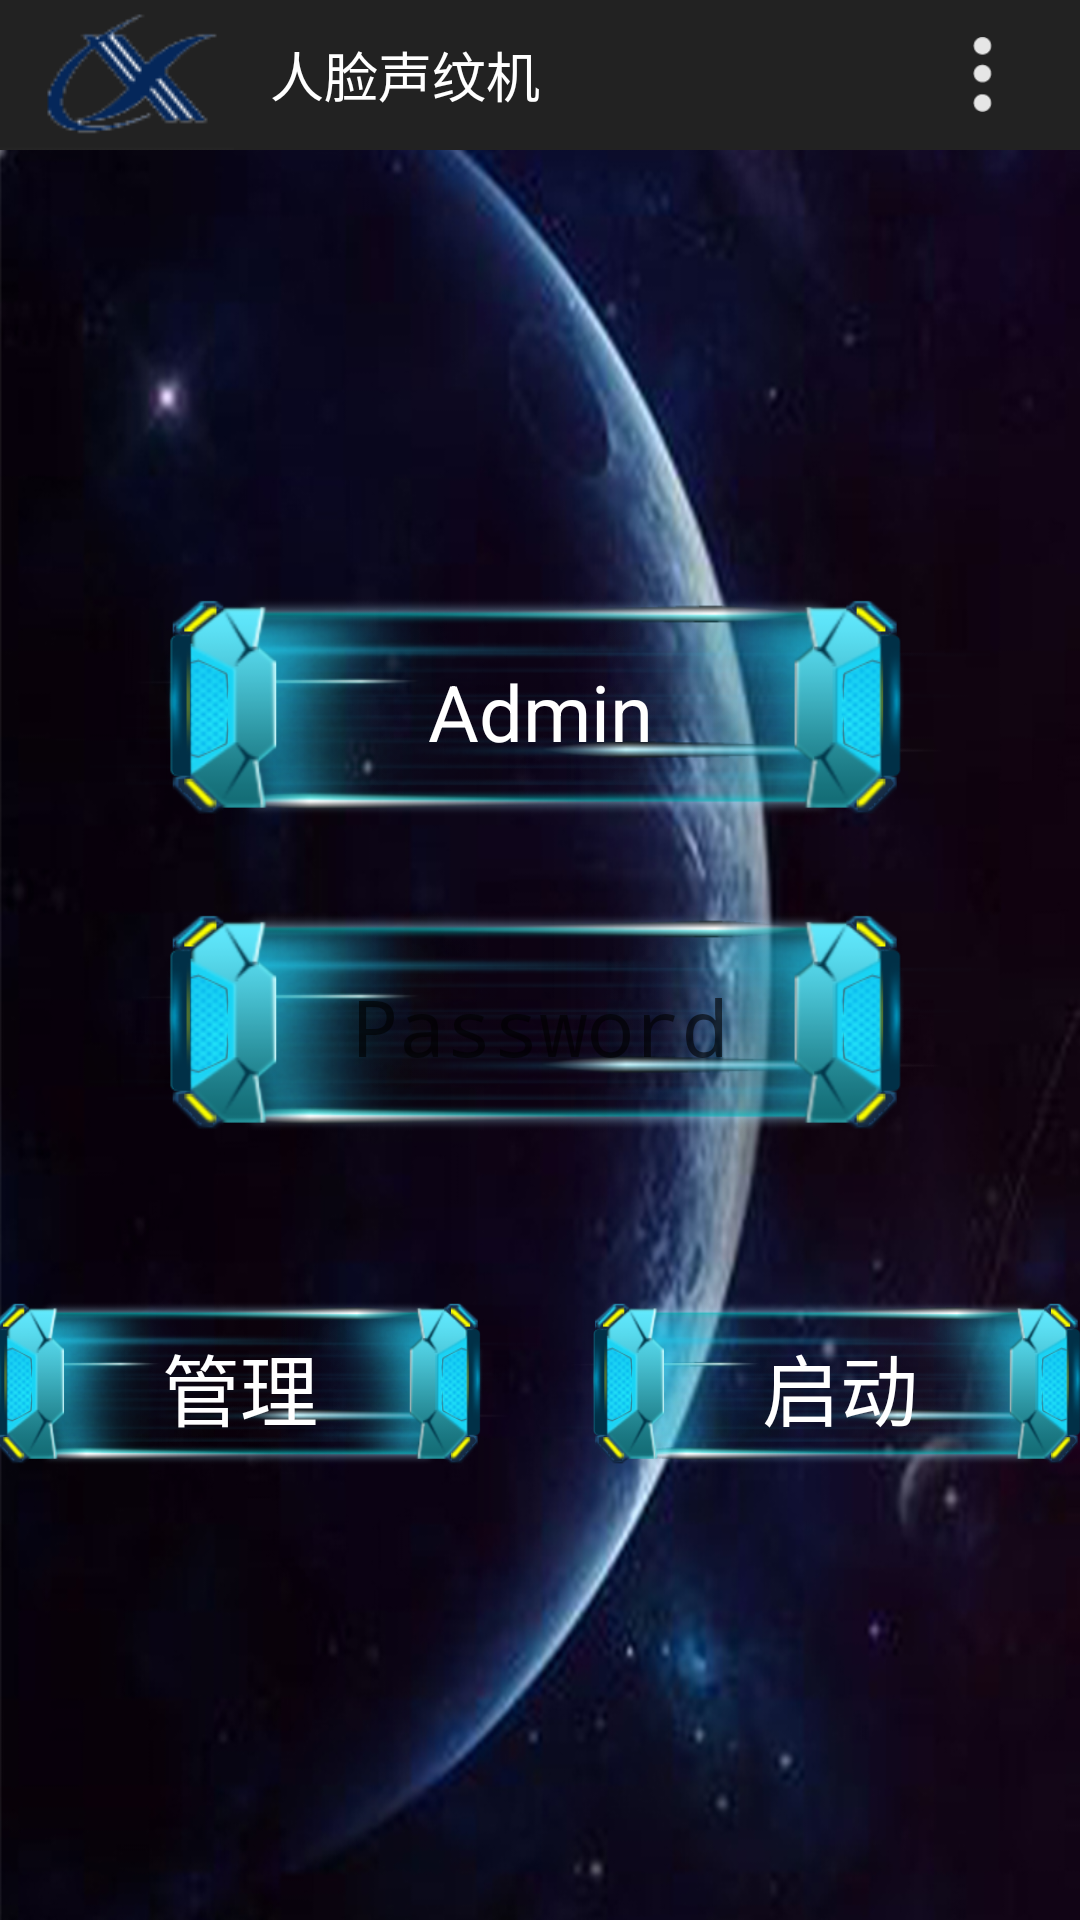

Point at icon controls on the screen. Image size 1080 x 1920, points as point (x, y).
more: point (982, 74)
